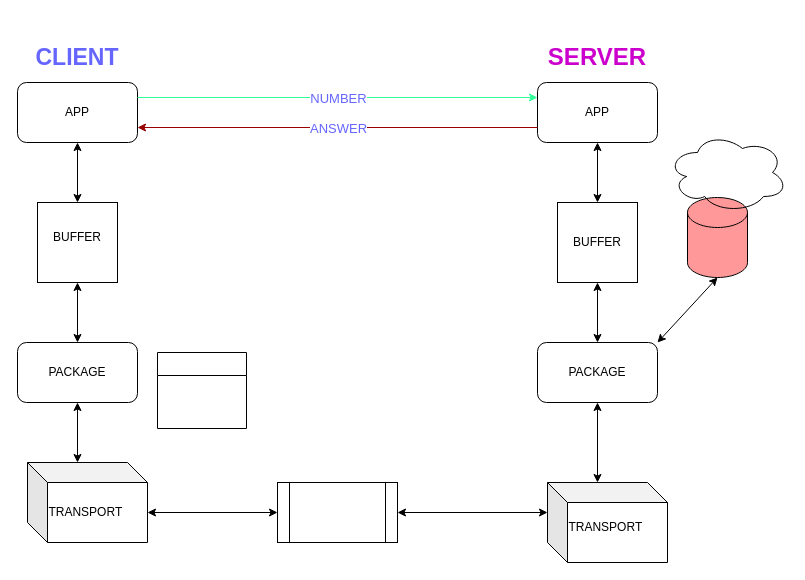
This 805x580 diagram has some shape labels left out. The centre of each missing label's shape, as x and y in pixels:
"FILE" belongs at point 717,237.
"HEADER" belongs at point 201,390.
"NETWORK" belongs at point 337,512.
"SAVE IN THE FILE" belongs at point 727,172.
